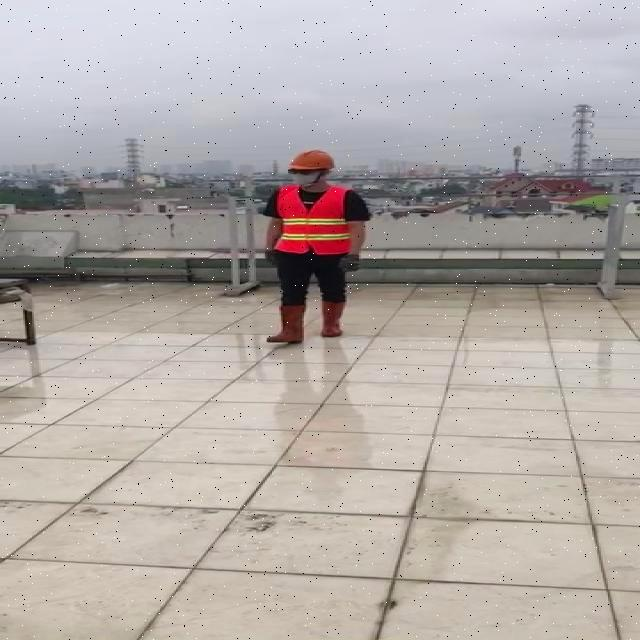Hard_hat: (284, 146, 339, 175)
Vest: (278, 184, 356, 257)
